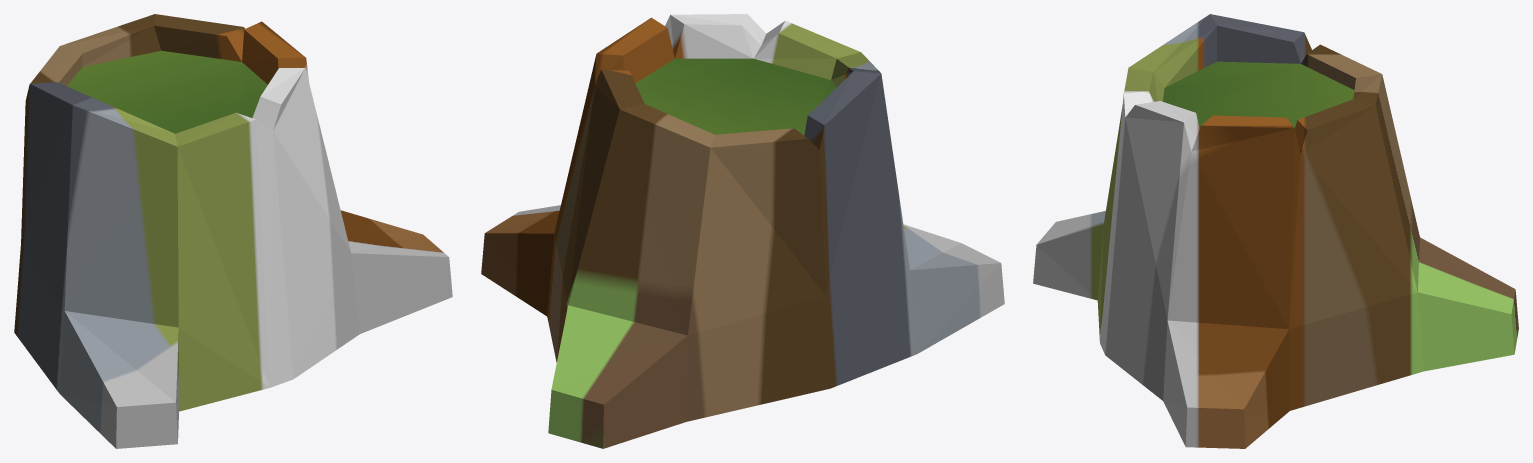
File: Stump_01.fbx
3 renders of one model, left to right at view 1: azimuth 30°, elevation 25°; view 2: azimuth 150°, elevation 25°; view 3: azimuth 270°, elevation 25°, orthographic. The views are drawn at different scales.
Parts seen in each view (by area): view 1: Stump_01; view 2: Stump_01; view 3: Stump_01.
Boxes of the visible parts, x1,y1,x2,y2 form: Stump_01: (14,14,452,448); Stump_01: (481,14,1004,448); Stump_01: (1033,14,1518,448).
Size of the model in its own units: 1.75 by 1.13 by 1.88.
